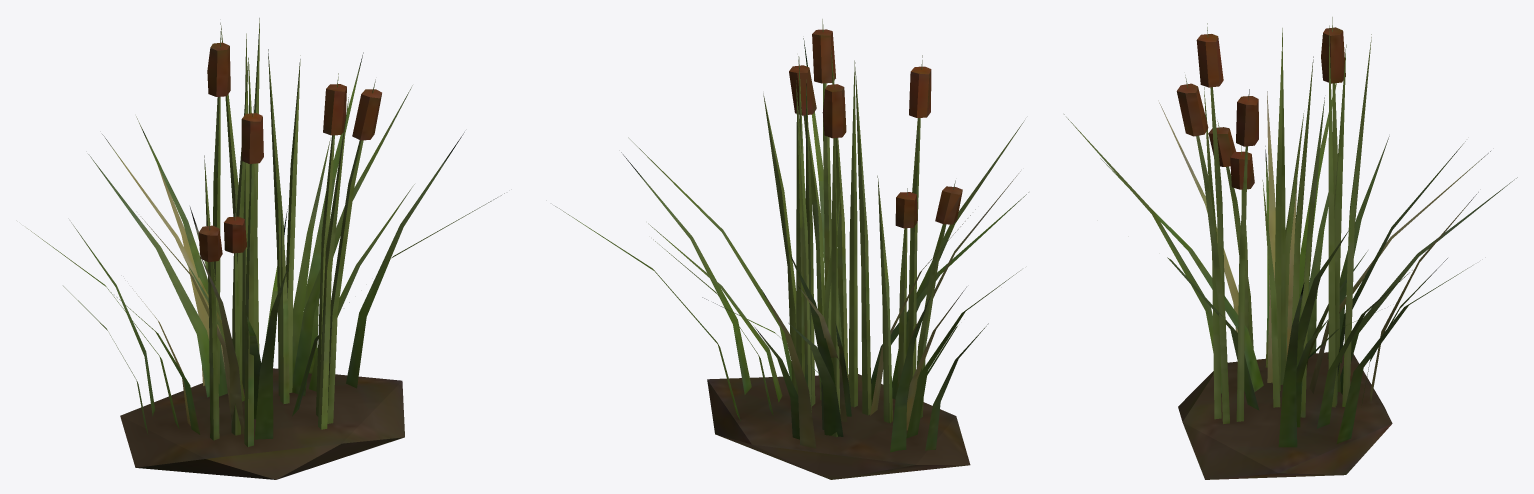
Rendered from bg_swamp_reeds_1_lod1.glb.
The picture shows the model from 3 angles, left to right: view 1: azimuth 30°, elevation 25°; view 2: azimuth 150°, elevation 25°; view 3: azimuth 270°, elevation 25°; orthographic projection. The views are drawn at different scales.
Visible parts, largest first — view 1: sway, body; view 2: sway, body; view 3: sway, body.
Part boxes in pixels (x1=…): sway: x1=27, y1=18, x2=504, y2=458; body: x1=120, y1=381, x2=404, y2=479; sway: x1=555, y1=19, x2=1028, y2=464; body: x1=707, y1=379, x2=970, y2=479; sway: x1=1064, y1=17, x2=1517, y2=472; body: x1=1178, y1=359, x2=1392, y2=479.
Bounding box in the file's own units: 1.66 × 1.5 × 1.48.
Materials: 1 (1 with a texture image).
